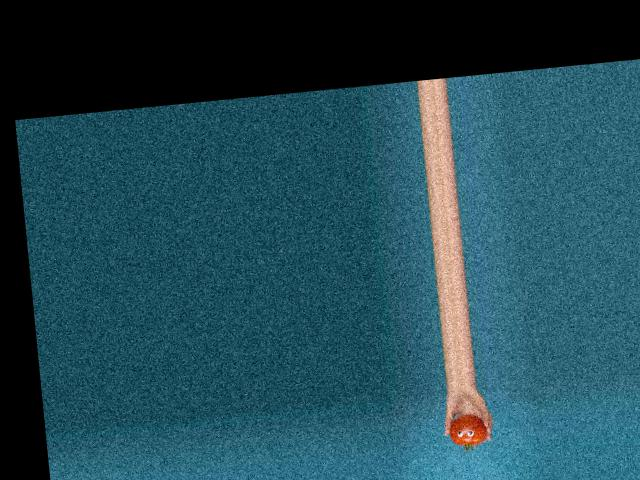tomato: (447, 412, 488, 447)
